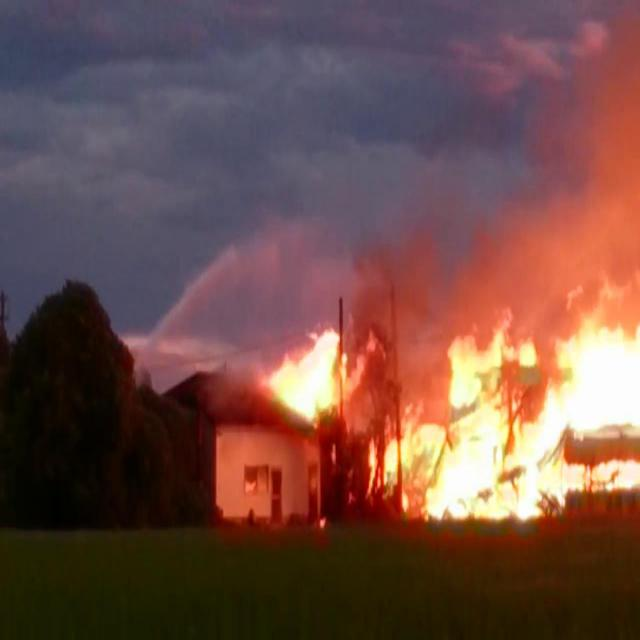fire: (379, 305, 636, 528), (262, 335, 342, 435)
